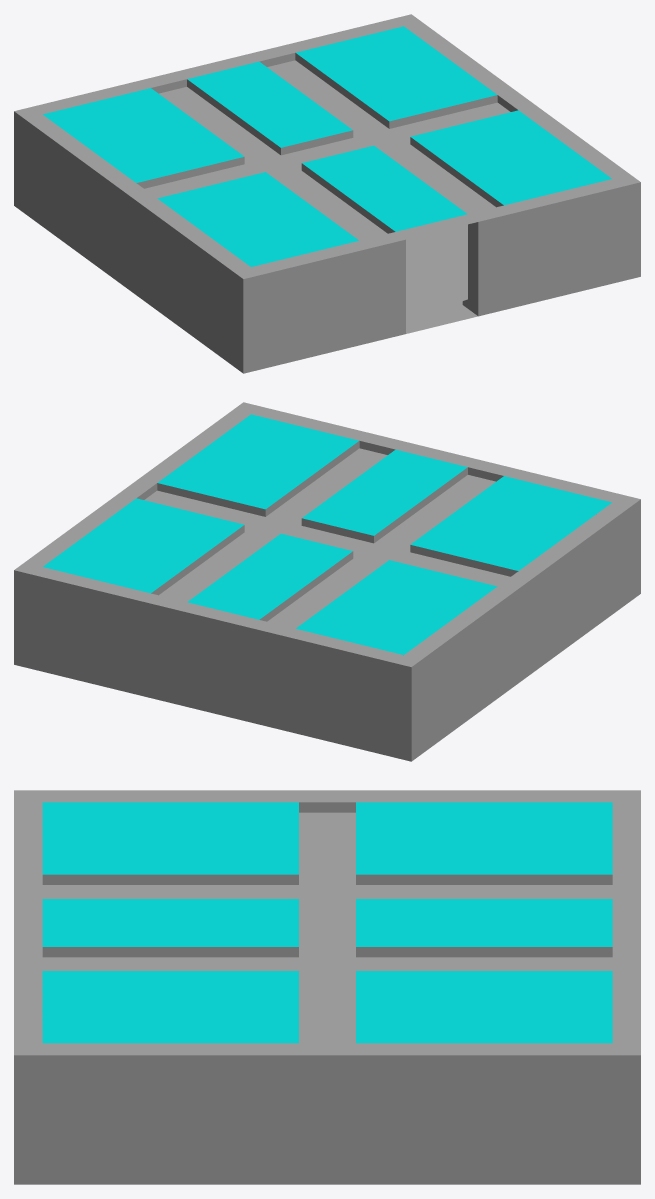
File: Room1&2_GammaArcade.fbx
The picture shows the model from 3 angles, top to bottom: view 1: azimuth 30°, elevation 25°; view 2: azimuth 150°, elevation 25°; view 3: azimuth 270°, elevation 25°; orthographic projection. The views are drawn at different scales.
Parts seen in each view (by area): view 1: Walls_Ceiling, Window4, Window3, Window2, Window1, Window6, Window5, Floor, DoorwayCeling; view 2: Walls_Ceiling, Window2, Window1, Window4, Window3, Window5, Window6, DoorwayCeling; view 3: Walls_Ceiling, Window1, Window3, Window4, Window2, Window5, Window6, DoorwayCeling.
Part boxes in pixels (x1,y1,x2,y2): Walls_Ceiling: (14, 14, 640, 373); Window4: (296, 26, 497, 121); Window3: (43, 88, 244, 182); Window2: (410, 110, 611, 205); Window1: (157, 172, 358, 266); Window6: (187, 61, 352, 147); Window5: (302, 145, 467, 231); Floor: (406, 224, 477, 333); DoorwayCeling: (396, 214, 477, 239); Walls_Ceiling: (14, 402, 640, 761); Window2: (157, 414, 358, 509); Window1: (410, 476, 611, 570); Window4: (43, 498, 244, 593); Window3: (296, 560, 497, 654); Window5: (302, 449, 467, 535); Window6: (187, 533, 352, 619); DoorwayCeling: (396, 442, 477, 466); Walls_Ceiling: (14, 790, 640, 1184); Window1: (42, 802, 298, 874); Window3: (356, 802, 612, 874); Window4: (356, 971, 612, 1043); Window2: (42, 971, 298, 1043); Window5: (42, 899, 298, 946); Window6: (356, 899, 612, 946); DoorwayCeling: (14, 899, 42, 946).
Size of the model in its own units: 22 by 5 by 22.
